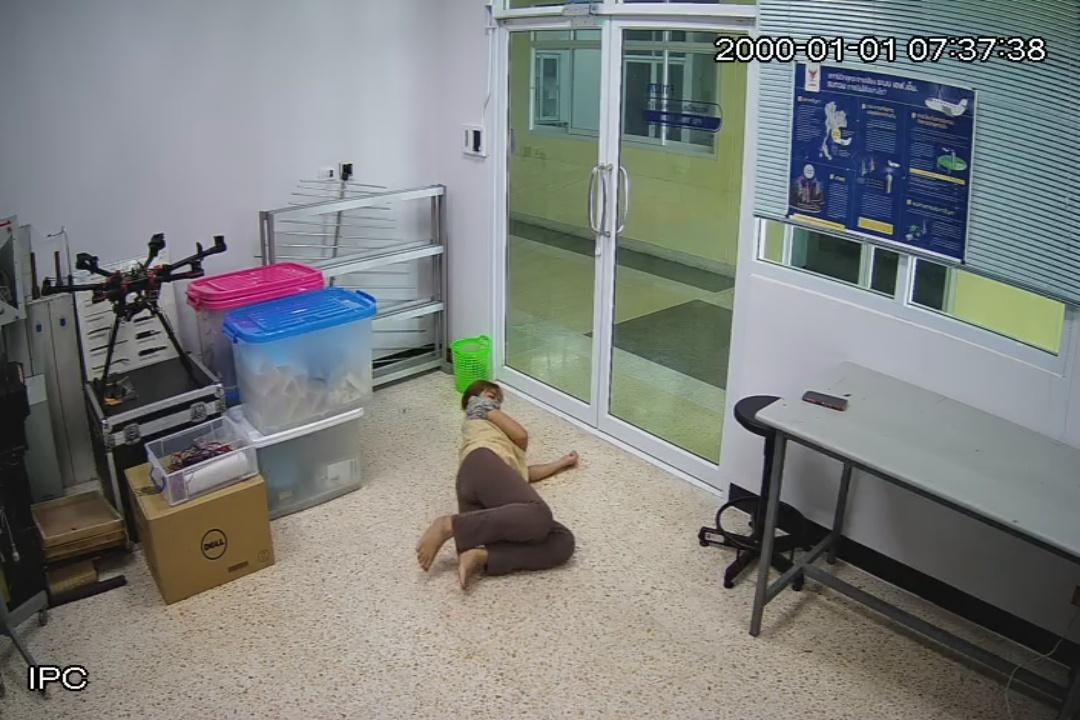fall: (416, 381, 576, 593)
